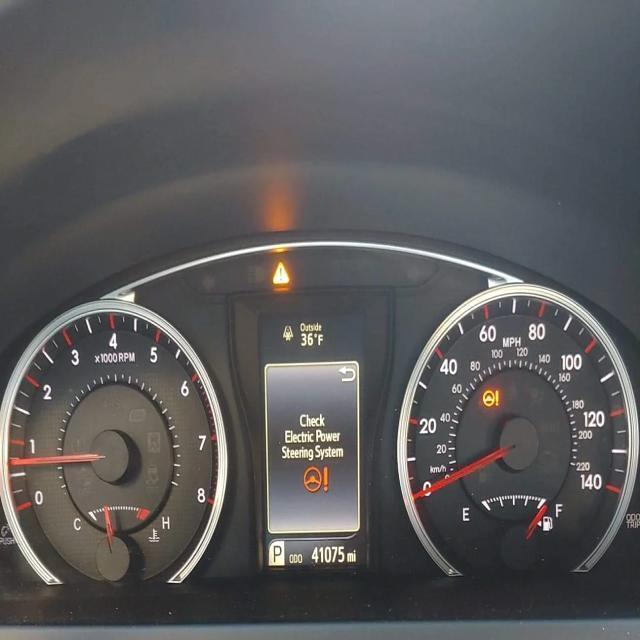Electronic Power Steering: (302, 464, 330, 494), (481, 388, 498, 408)
